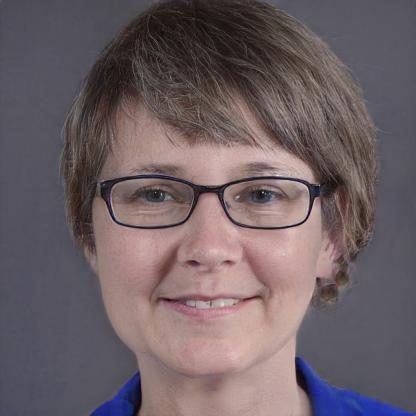glasses: (89, 168, 326, 233)
